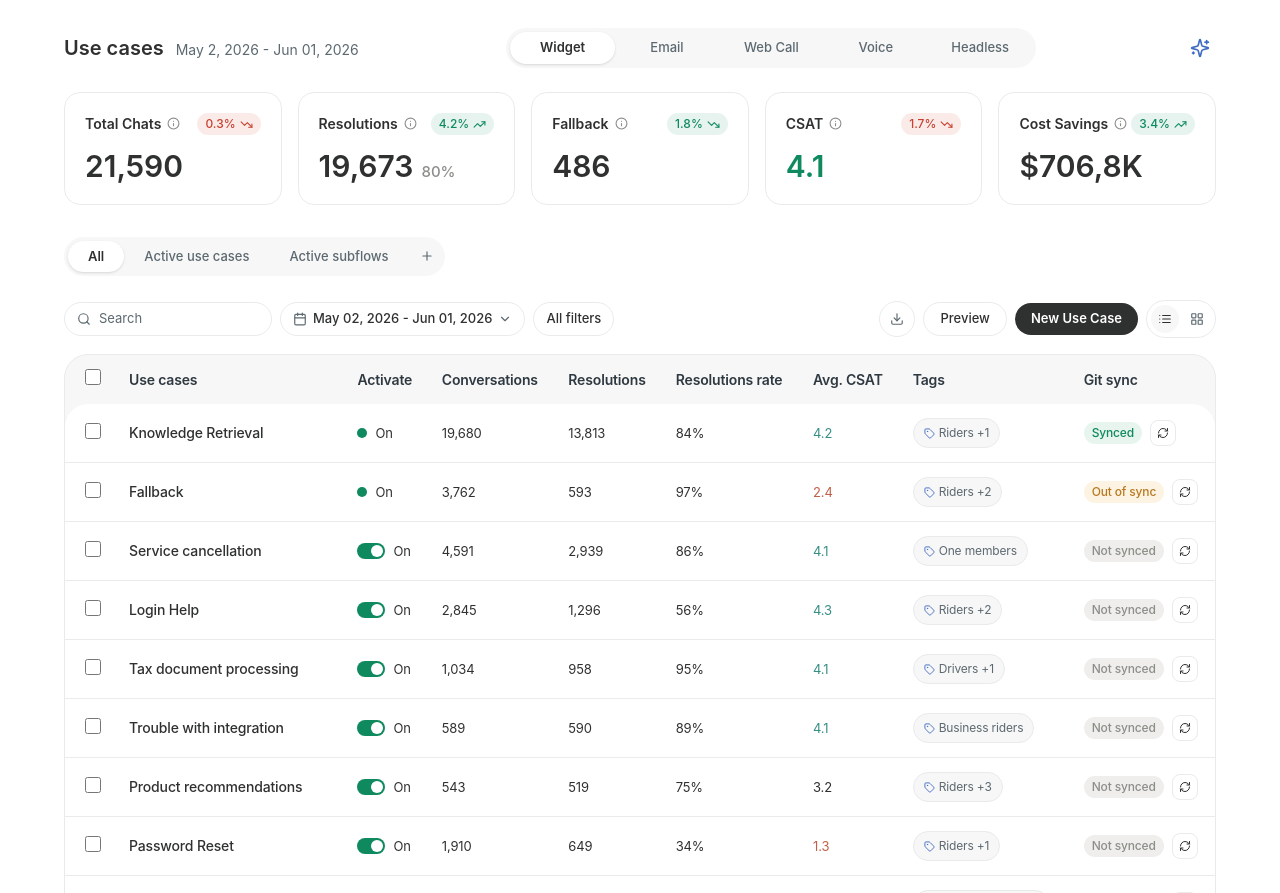
AgentBuilderScreen › filters to only On use cases under the Active use cases tab
What coordinates should you click on to do the following:
click the switch named "Activate Service cancellation"
I would click on:
 (372, 551)
Its box is x1=358 y1=543 x2=386 y2=559.
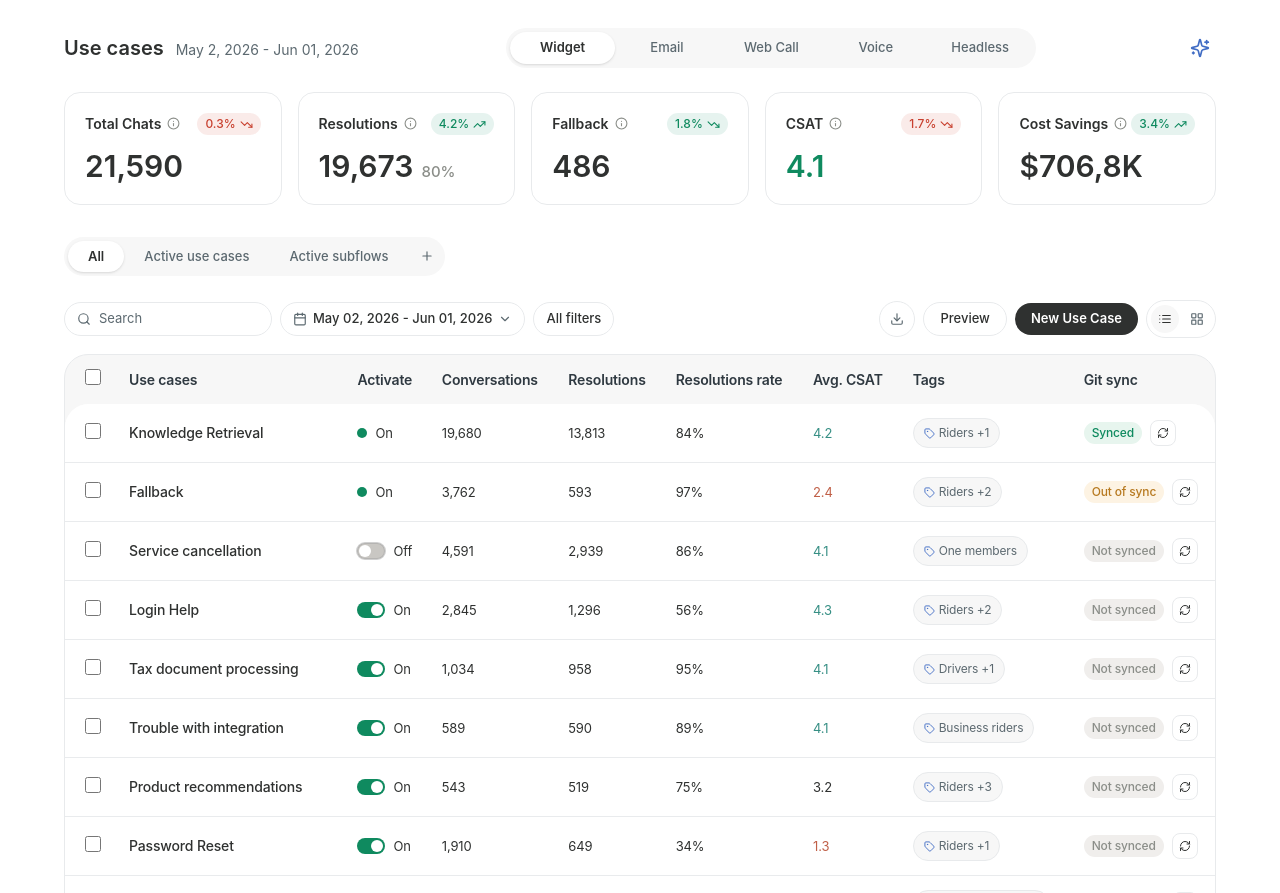
What coordinates should you click on to do the following:
click the tab "Active use cases"
I would click on:
 (197, 256)
Its box is x1=124 y1=240 x2=270 y2=272.
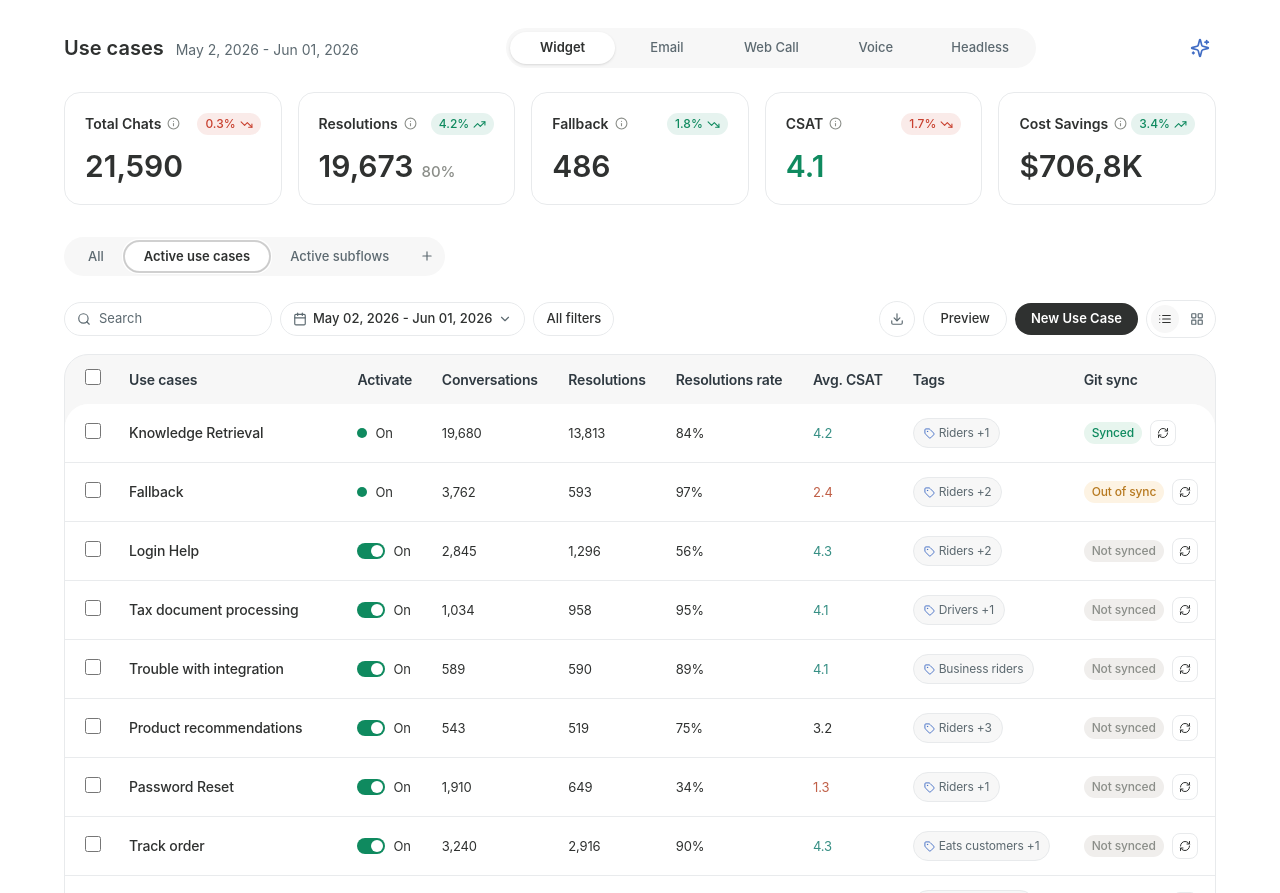
Expected: the text "Knowledge Retrieval" is shown, x1=129 y1=424 x2=263 y2=441
Expected: the text "Service cancellation" is gone
